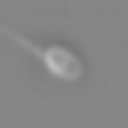normal: (1, 20, 46, 58)
